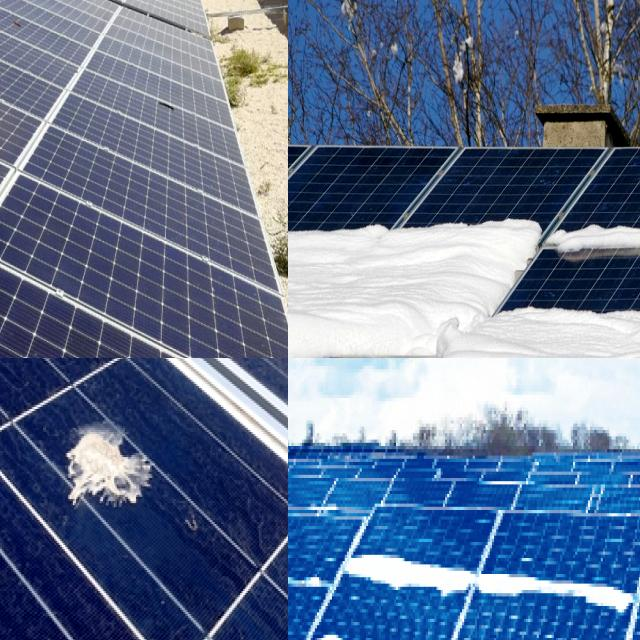bird: (51, 402, 157, 518)
crack: (0, 158, 288, 358), (15, 104, 288, 295), (18, 58, 258, 228), (0, 229, 288, 358), (68, 46, 288, 196), (0, 53, 168, 237), (0, 14, 128, 183), (0, 0, 94, 149), (0, 0, 99, 128)
panel: (328, 516, 474, 610), (484, 544, 624, 640), (344, 528, 475, 622), (417, 200, 546, 280), (352, 210, 548, 256), (288, 194, 395, 251), (319, 307, 429, 358), (486, 278, 570, 342), (551, 204, 640, 263), (576, 279, 640, 350), (288, 312, 346, 358), (437, 308, 481, 358), (288, 605, 349, 640), (288, 228, 313, 299), (288, 544, 324, 580), (302, 560, 332, 602), (306, 622, 369, 640), (294, 503, 355, 521), (288, 563, 307, 590)
